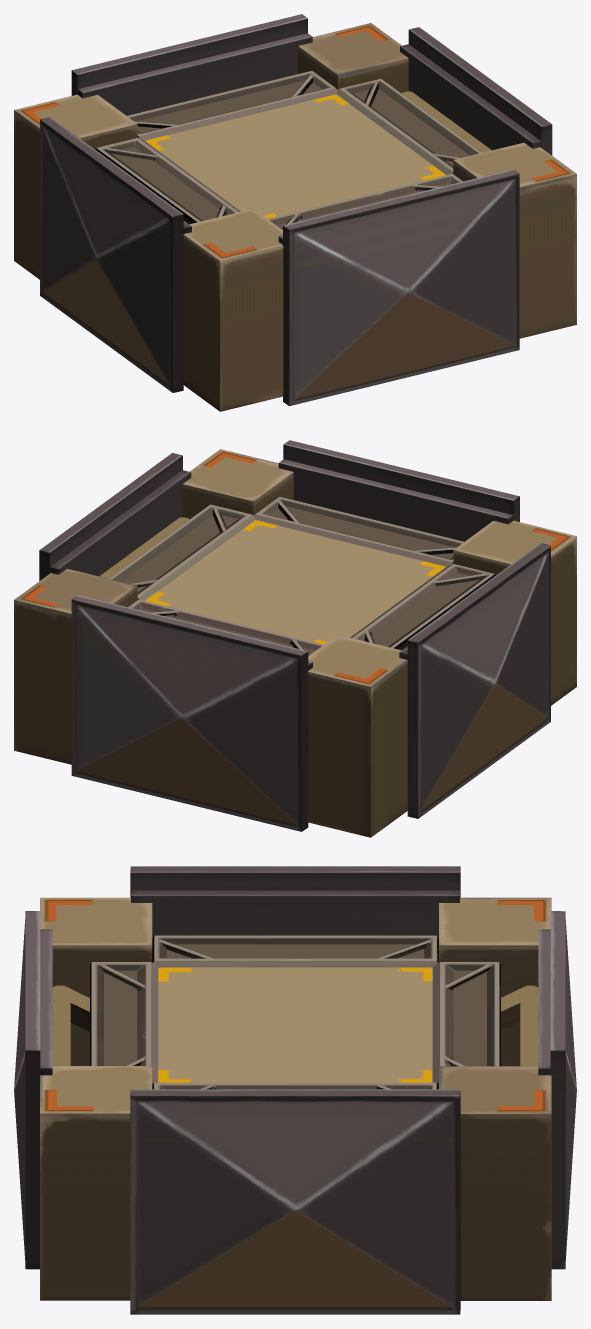
Rendered from S_survive_sheild.fbx.
The picture shows the model from 3 angles, top to bottom: view 1: azimuth 30°, elevation 25°; view 2: azimuth 150°, elevation 25°; view 3: azimuth 270°, elevation 25°; orthographic projection. The views are drawn at different scales.
Visible parts, largest first — view 1: S_survive_sheild; view 2: S_survive_sheild; view 3: S_survive_sheild.
Boxes of the visible parts, box(x1,y1,x2,y2) form: S_survive_sheild: box(14, 14, 576, 411); S_survive_sheild: box(14, 440, 576, 837); S_survive_sheild: box(14, 866, 576, 1314).
Bounding box in the file's own units: 1.11 × 0.4676 × 1.09.
1 material, 1 textured.
